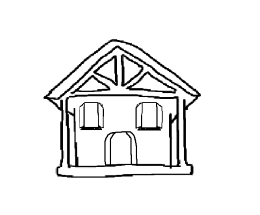door: (99, 127, 143, 172)
open_window: (133, 100, 166, 134), (77, 100, 106, 132)
roof: (44, 39, 201, 109)
wall: (64, 92, 181, 169)
